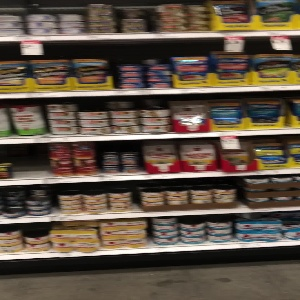void: (10, 146, 48, 177)
